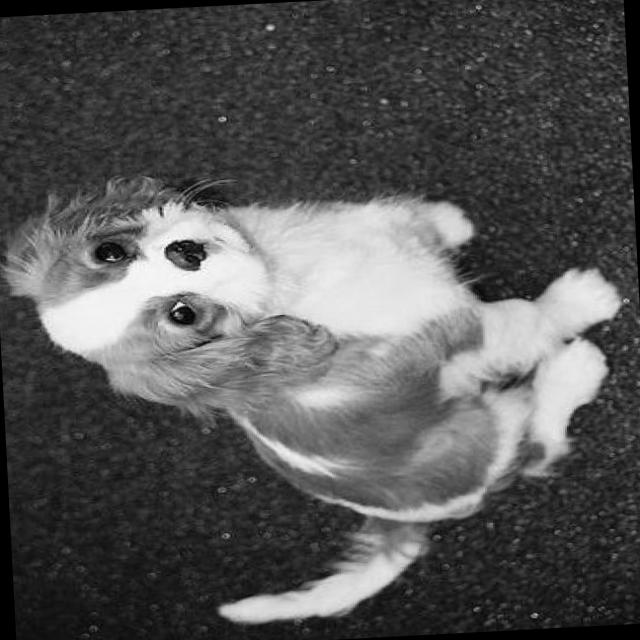sitting: (0, 143, 640, 640)
